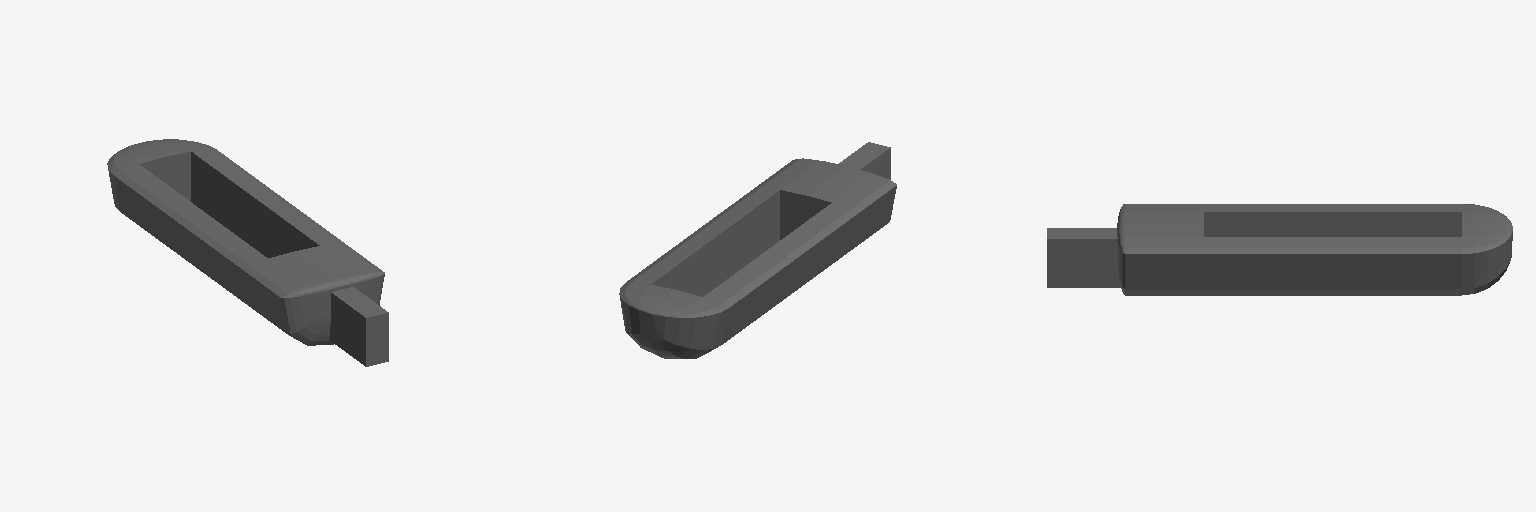
The model's file is Right.obj.
The picture shows the model from 3 angles: view 1: azimuth 30°, elevation 25°; view 2: azimuth 150°, elevation 25°; view 3: azimuth 270°, elevation 25°; orthographic projection.
Visible parts, largest first — view 1: Capsule01, Box01; view 2: Capsule01, Box01; view 3: Capsule01, Box01.
Part boxes in pixels (left/top/right/bottom): Capsule01: left=107, top=139, right=384, bottom=345; Box01: left=329, top=287, right=388, bottom=366; Capsule01: left=619, top=158, right=896, bottom=358; Box01: left=839, top=142, right=890, bottom=179; Capsule01: left=1117, top=204, right=1512, bottom=295; Box01: left=1047, top=228, right=1120, bottom=287.
Size of the model in its own units: 0.3846 by 0.23 by 1.5.